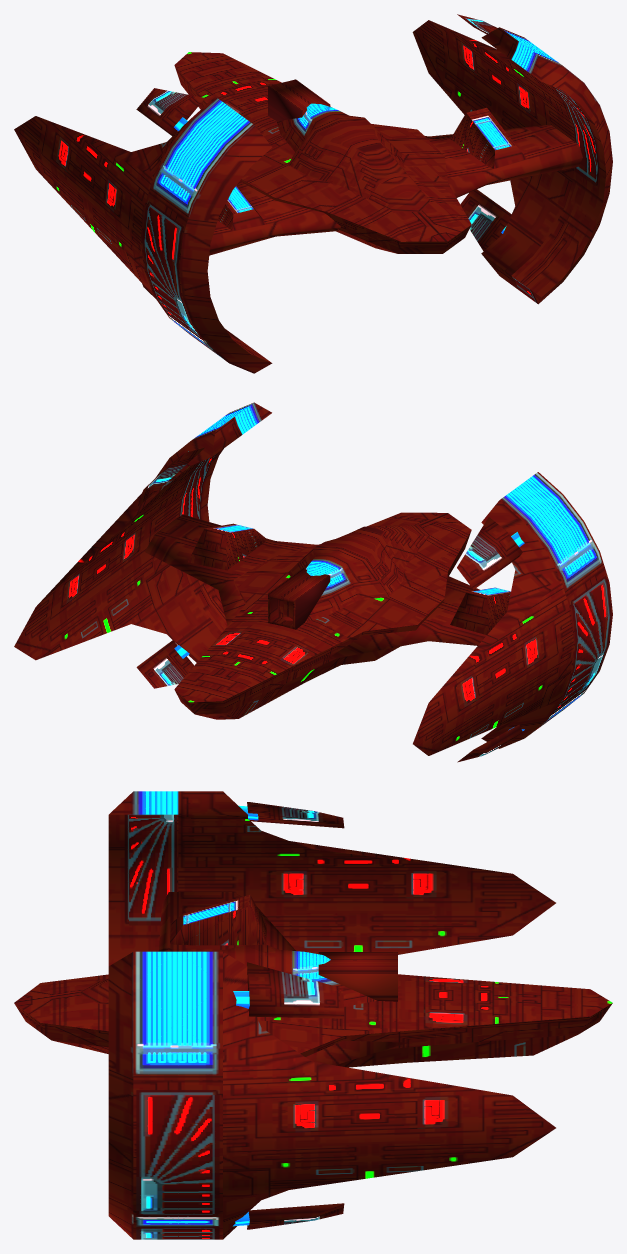
Rendered from Vul_Sonyr.fbx.
3 views of the same model, one above another, from view 1: azimuth 30°, elevation 25°; view 2: azimuth 150°, elevation 25°; view 3: azimuth 270°, elevation 25° (orthographic). The views are drawn at different scales.
Visible parts, largest first — view 1: Vul_Sonyr; view 2: Vul_Sonyr; view 3: Vul_Sonyr.
Part boxes in pixels (x1,y1,x2,y2): Vul_Sonyr: (14,14,612,373); Vul_Sonyr: (14,402,612,762); Vul_Sonyr: (14,791,612,1239).
Size of the model in its own units: 309 by 170 by 320.
Materials: 1 (1 with a texture image).
